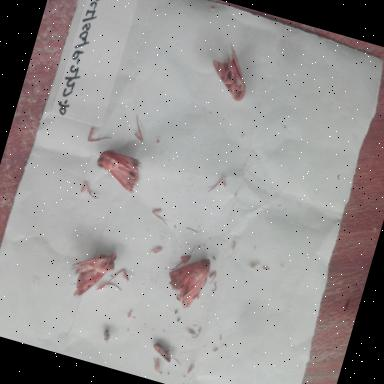abw: (151, 241, 220, 317), (198, 41, 260, 110), (61, 243, 121, 308), (86, 142, 149, 200)
